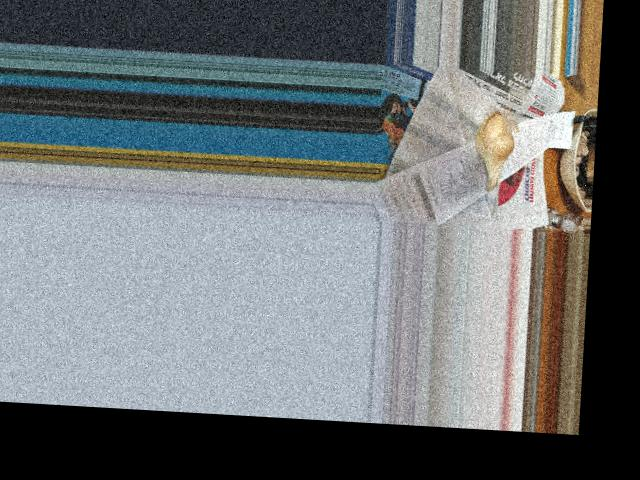onion: (471, 108, 518, 183)
